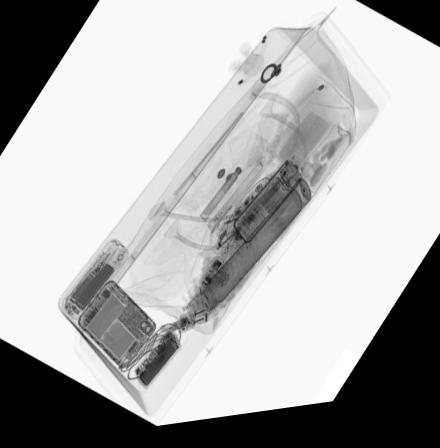Powerbank: (132, 332, 181, 395)
